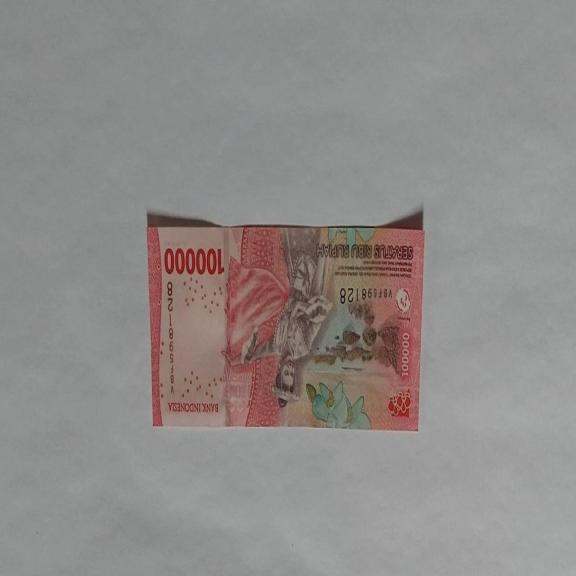Kertas: (146, 209, 425, 431), (163, 245, 224, 276)
